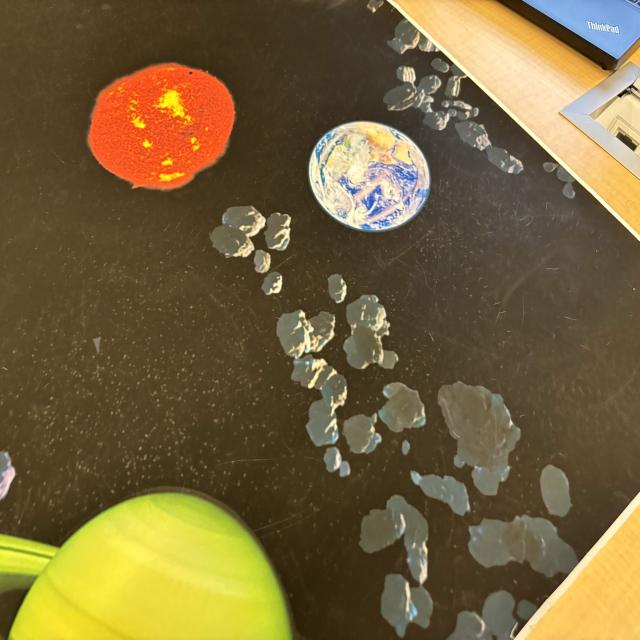Asteroids: (218, 206, 580, 636), (392, 24, 539, 166)
Earth: (312, 115, 429, 238)
Saturn: (3, 492, 300, 640)
Sun: (85, 65, 235, 188)
